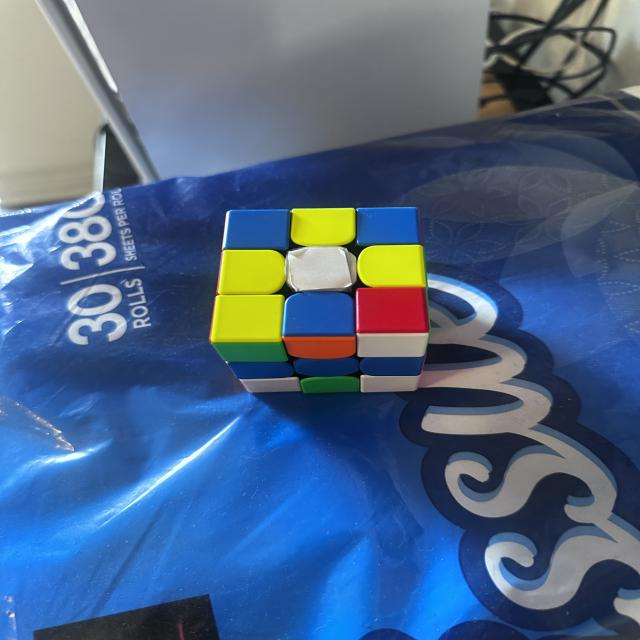sticker: (354, 286, 434, 358), (209, 294, 289, 362), (282, 290, 357, 358), (215, 248, 288, 297), (357, 244, 427, 290), (222, 209, 291, 252), (354, 205, 422, 248), (288, 208, 356, 248), (287, 248, 355, 288), (282, 336, 356, 360), (225, 360, 298, 384), (359, 355, 427, 378), (293, 356, 360, 378), (236, 376, 303, 393), (299, 376, 360, 394), (361, 374, 422, 392)
